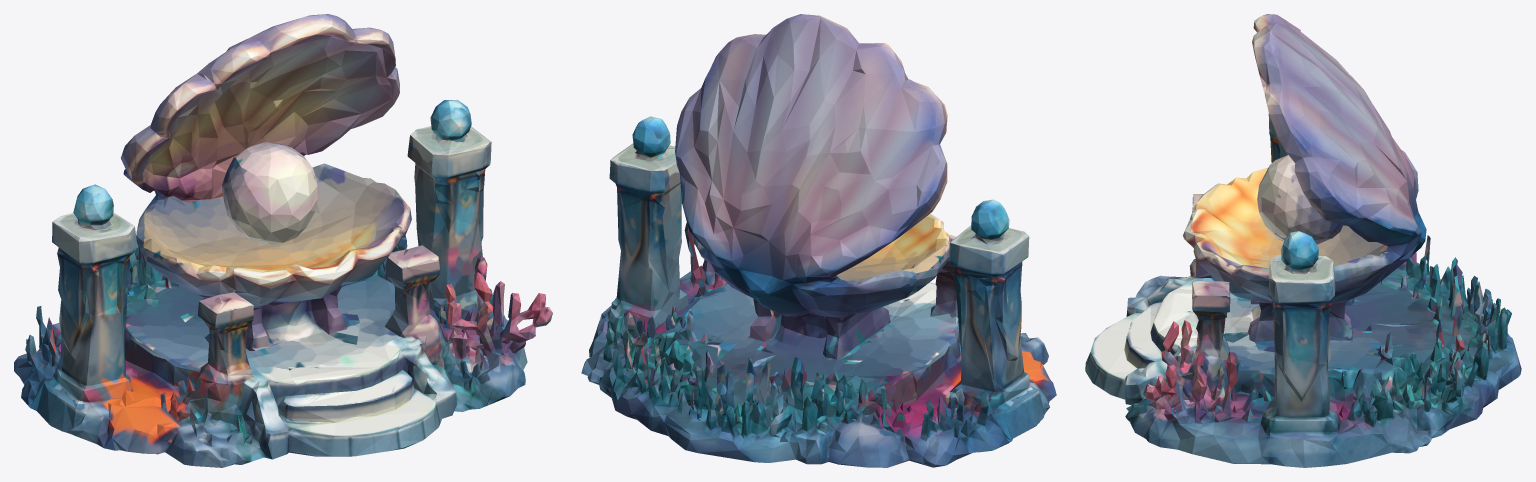
File: sea_pearl_altar_1117.glb
3 views of the same model, side by side, from view 1: azimuth 30°, elevation 25°; view 2: azimuth 150°, elevation 25°; view 3: azimuth 270°, elevation 25° (orthographic). The views are drawn at different scales.
Visible parts, largest first — view 1: tmpvudlcruj.ply; view 2: tmpvudlcruj.ply; view 3: tmpvudlcruj.ply.
Part boxes in pixels (bbox=[...]): tmpvudlcruj.ply: bbox=[14, 14, 552, 467]; tmpvudlcruj.ply: bbox=[581, 14, 1056, 467]; tmpvudlcruj.ply: bbox=[1085, 14, 1521, 467].
Size of the model in its own units: 1.99 by 1.53 by 1.78.
1 material, 1 textured.
